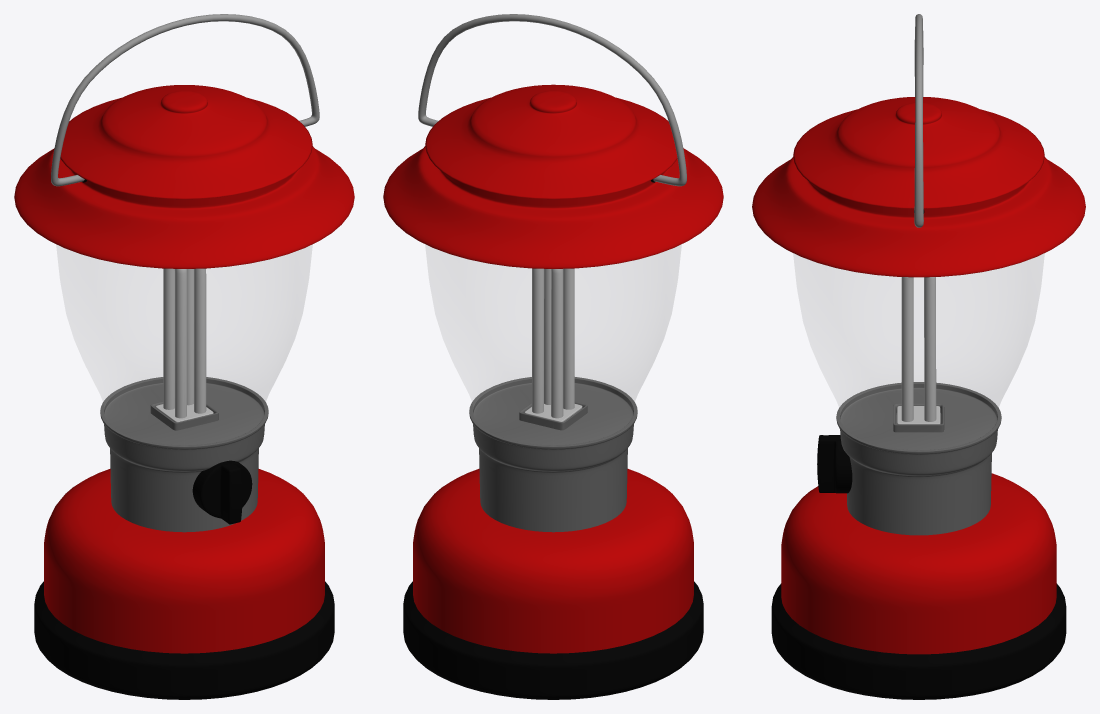
Rendered from lantern_1.fbx.
3 renders of one model, left to right at view 1: azimuth 30°, elevation 25°; view 2: azimuth 150°, elevation 25°; view 3: azimuth 270°, elevation 25°, orthographic.
Parts seen in each view (by area): view 1: lantern_lid, lantern_base, lantern_glass, lantern_middle, lantern_bottom, lantern_handle, left_bulb, right_bulb, lantern_knob, bulb_slot; view 2: lantern_lid, lantern_base, lantern_glass, lantern_middle, lantern_bottom, lantern_handle, left_bulb, right_bulb, bulb_slot; view 3: lantern_lid, lantern_base, lantern_glass, lantern_middle, lantern_bottom, right_bulb, lantern_handle, lantern_knob, bulb_slot.
Part boxes in pixels (x1,y1,x2,y2): lantern_lid: (14, 85, 354, 268); lantern_base: (44, 469, 324, 653); lantern_glass: (57, 245, 311, 411); lantern_middle: (100, 377, 268, 532); lantern_bottom: (34, 581, 334, 699); lantern_handle: (51, 14, 319, 186); left_bulb: (163, 268, 186, 418); right_bulb: (187, 268, 206, 413); lantern_knob: (192, 460, 252, 524); bulb_slot: (150, 401, 218, 430); lantern_lid: (383, 84, 723, 268); lantern_base: (413, 469, 693, 653); lantern_glass: (426, 245, 680, 411); lantern_middle: (469, 377, 637, 532); lantern_bottom: (403, 581, 703, 699); lantern_handle: (418, 14, 686, 186); left_bulb: (551, 268, 574, 418); right_bulb: (532, 268, 551, 413); bulb_slot: (519, 401, 587, 430); lantern_lid: (752, 97, 1085, 277); lantern_base: (781, 473, 1056, 654); lantern_glass: (794, 254, 1043, 417); lantern_middle: (836, 382, 1001, 535); lantern_bottom: (771, 583, 1066, 699); right_bulb: (901, 277, 936, 421); lantern_handle: (914, 14, 923, 227); lantern_knob: (817, 435, 852, 493); bulb_slot: (893, 403, 944, 432).
Size of the model in its own units: 6.65 by 13.36 by 6.65.
